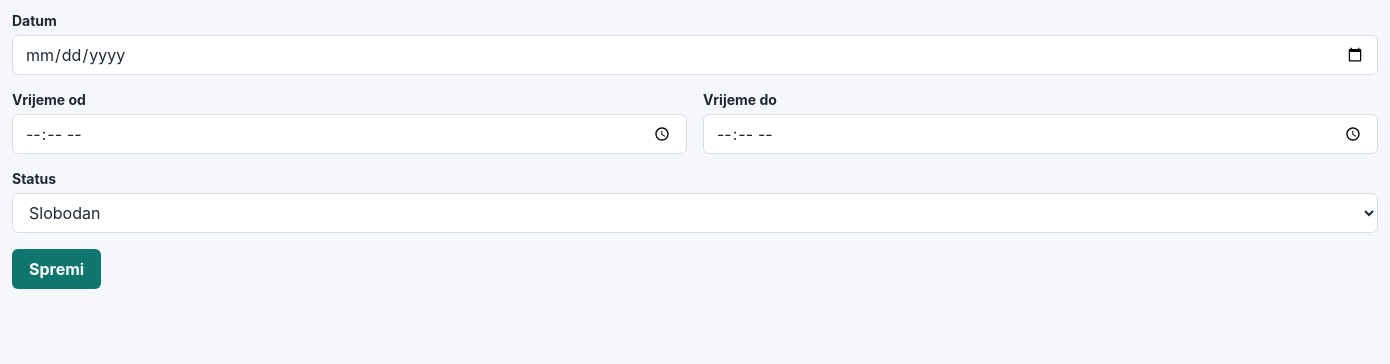
it: AppointmentForm › shows validation error when vrijemeDo is not after vrijemeOd
In the date field labelled "Datum": coordinates (695, 55) left=12, top=35, right=1378, bottom=75, type "2026-06-15"
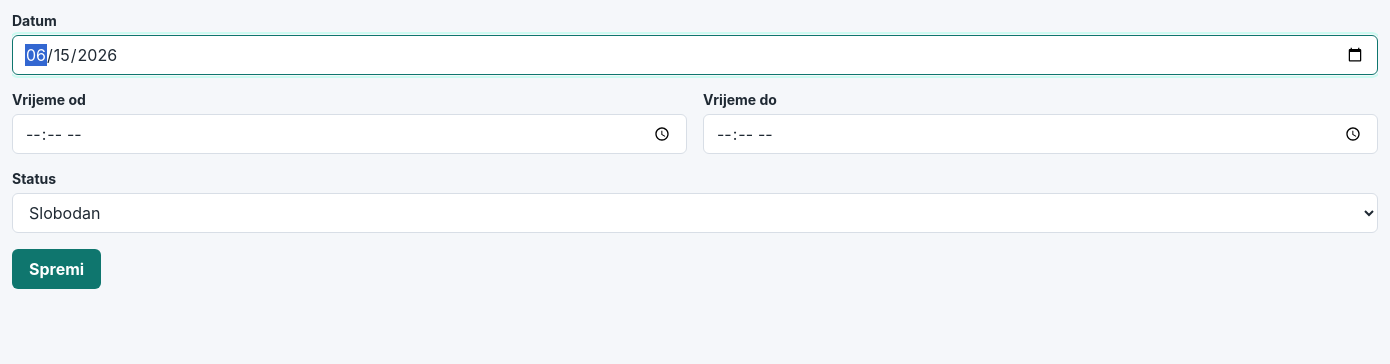
In the time field labelled "Vrijeme od": coordinates (350, 134) left=12, top=114, right=687, bottom=154, type "10:00"
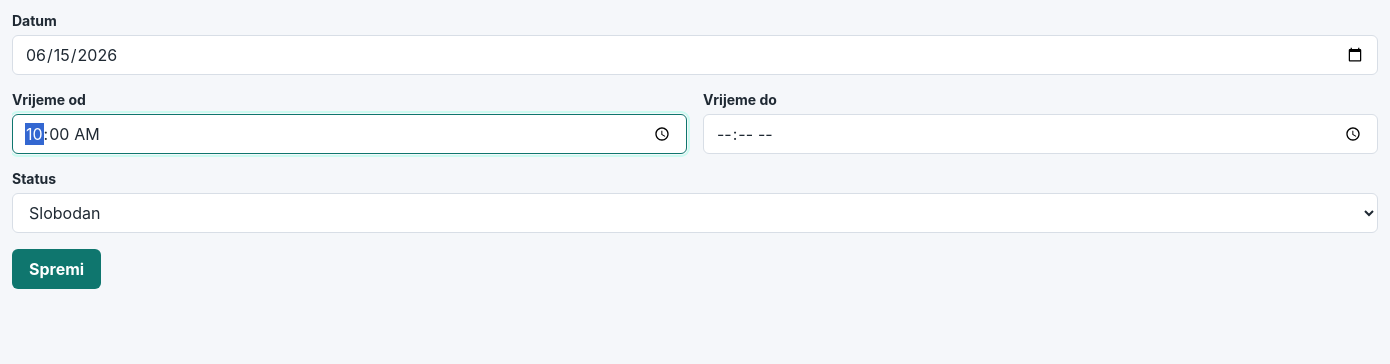
In the time field labelled "Vrijeme do": coordinates (1040, 134) left=703, top=114, right=1378, bottom=154, type "09:00"
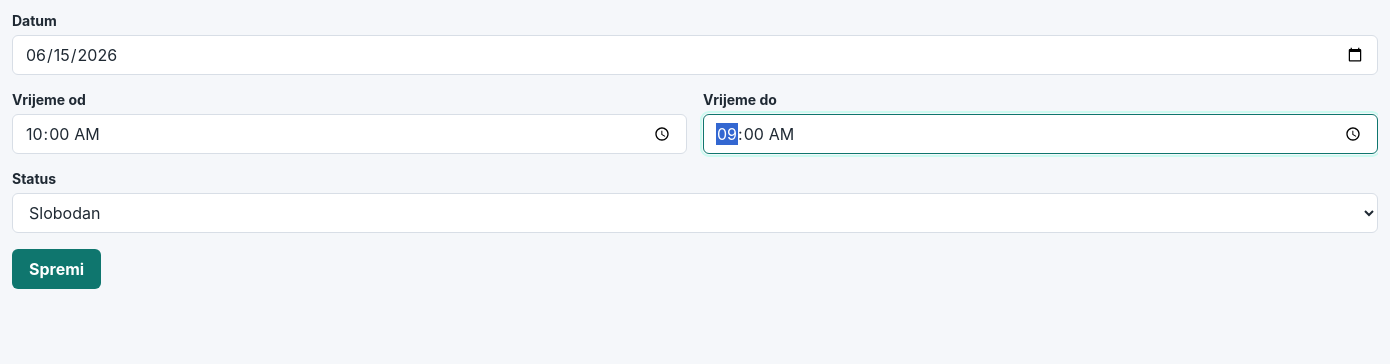
Click the button "Spremi": coordinates (57, 269) left=12, top=249, right=101, bottom=289
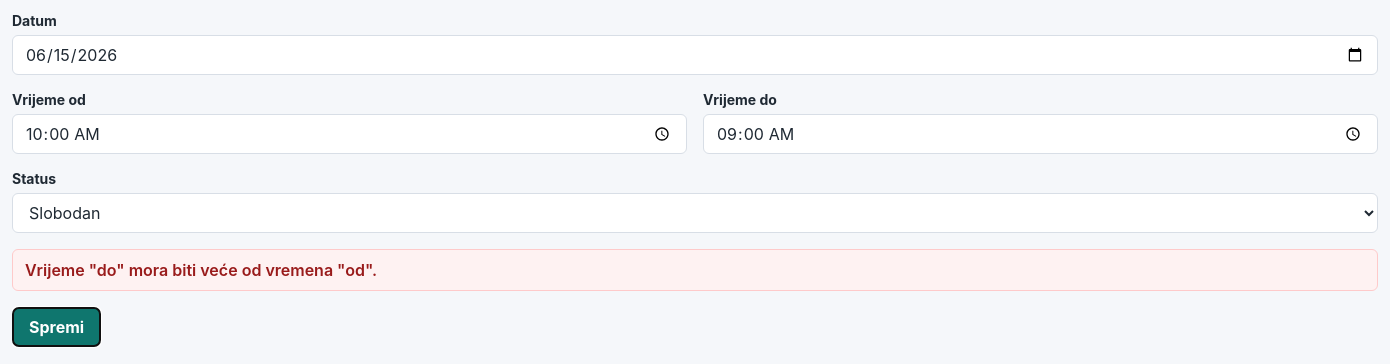
Check: the text "Vrijeme \"do\" mora biti veće od vremena \"od\"." is shown, box left=12, top=249, right=1378, bottom=291
